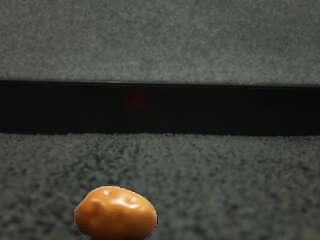Potato: (76, 186, 158, 240)
